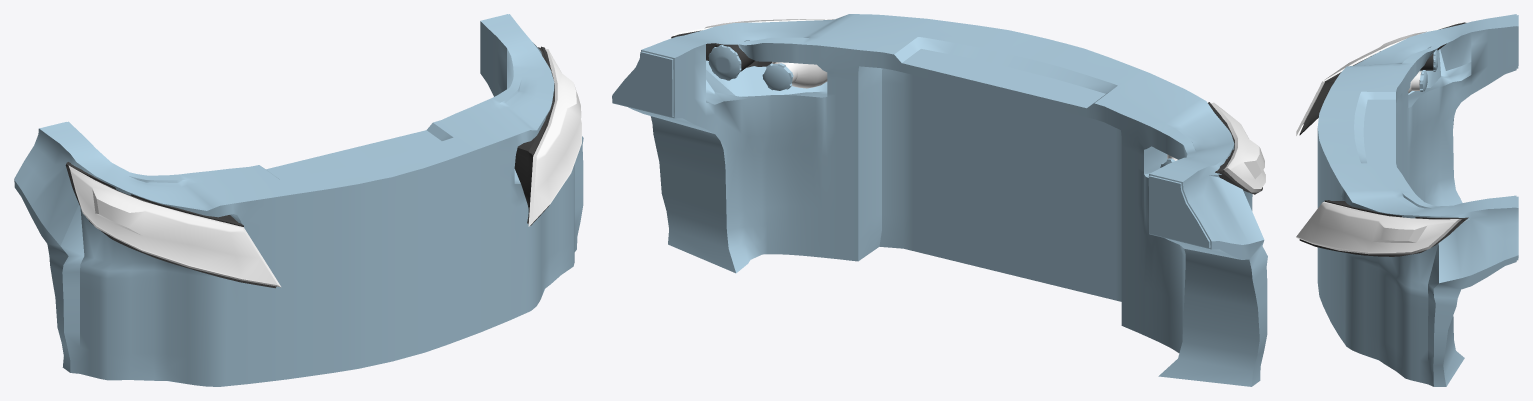
Rendered from LampN1.fbx.
3 renders of one model, left to right at view 1: azimuth 30°, elevation 25°; view 2: azimuth 150°, elevation 25°; view 3: azimuth 270°, elevation 25°, orthographic. The views are drawn at different scales.
Visible parts, largest first — view 1: Lamp.001, Plastic2.002, Plastic2.001; view 2: Lamp.001, Plastic2.002, Plastic2.001, Krishka2.001, Krishka.001; view 3: Lamp.001, Plastic2.001, Plastic2.002.
Boxes of the visible parts, bbox=[...] form: Lamp.001: bbox=[14, 14, 583, 386]; Plastic2.002: bbox=[65, 162, 281, 288]; Plastic2.001: bbox=[514, 46, 581, 226]; Lamp.001: bbox=[612, 14, 1267, 386]; Plastic2.002: bbox=[1167, 102, 1265, 194]; Plastic2.001: bbox=[671, 19, 834, 88]; Krishka2.001: bbox=[708, 45, 741, 80]; Krishka.001: bbox=[762, 63, 793, 90]; Lamp.001: bbox=[1317, 14, 1518, 386]; Plastic2.001: bbox=[1296, 200, 1468, 256]; Plastic2.002: bbox=[1296, 21, 1465, 135].
Size of the model in its own units: 172 by 64.32 by 75.5.
